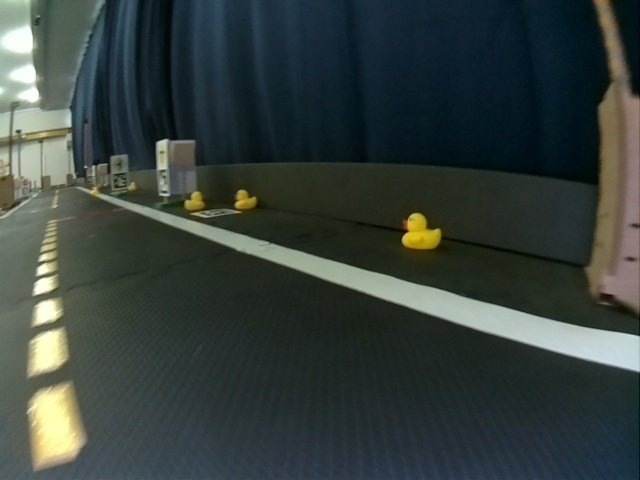Duckie: (402, 213, 442, 249), (185, 191, 205, 210), (236, 190, 256, 208), (90, 187, 98, 194)
Intersection sign: (157, 142, 168, 168), (112, 156, 125, 172)
QR code: (191, 208, 240, 217), (111, 173, 128, 190), (158, 169, 168, 194)
